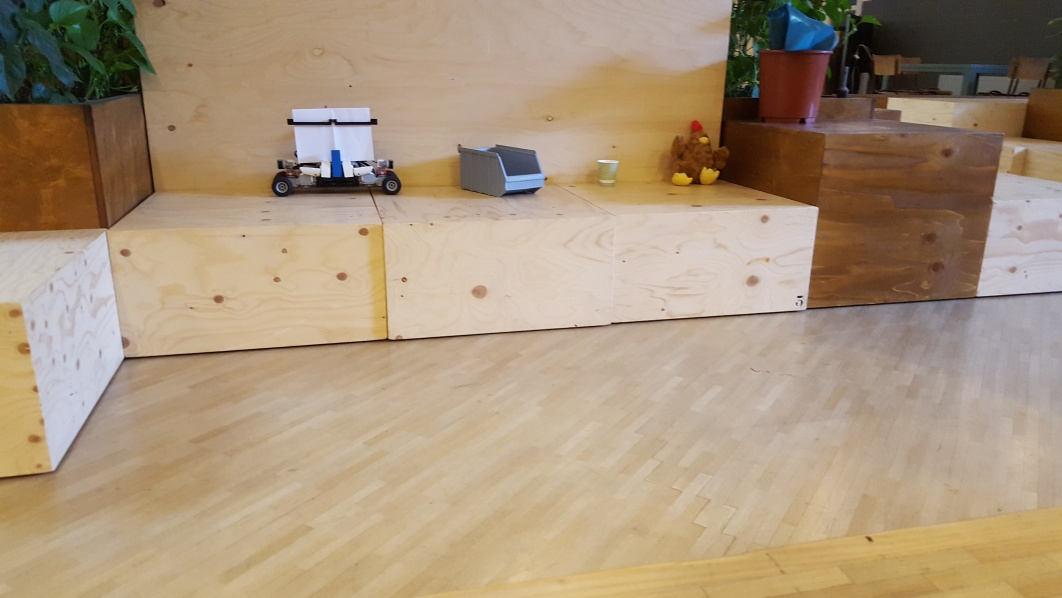car: (270, 106, 403, 200)
chicken: (670, 119, 729, 188)
cup: (594, 155, 621, 187)
tray: (456, 142, 546, 198)
